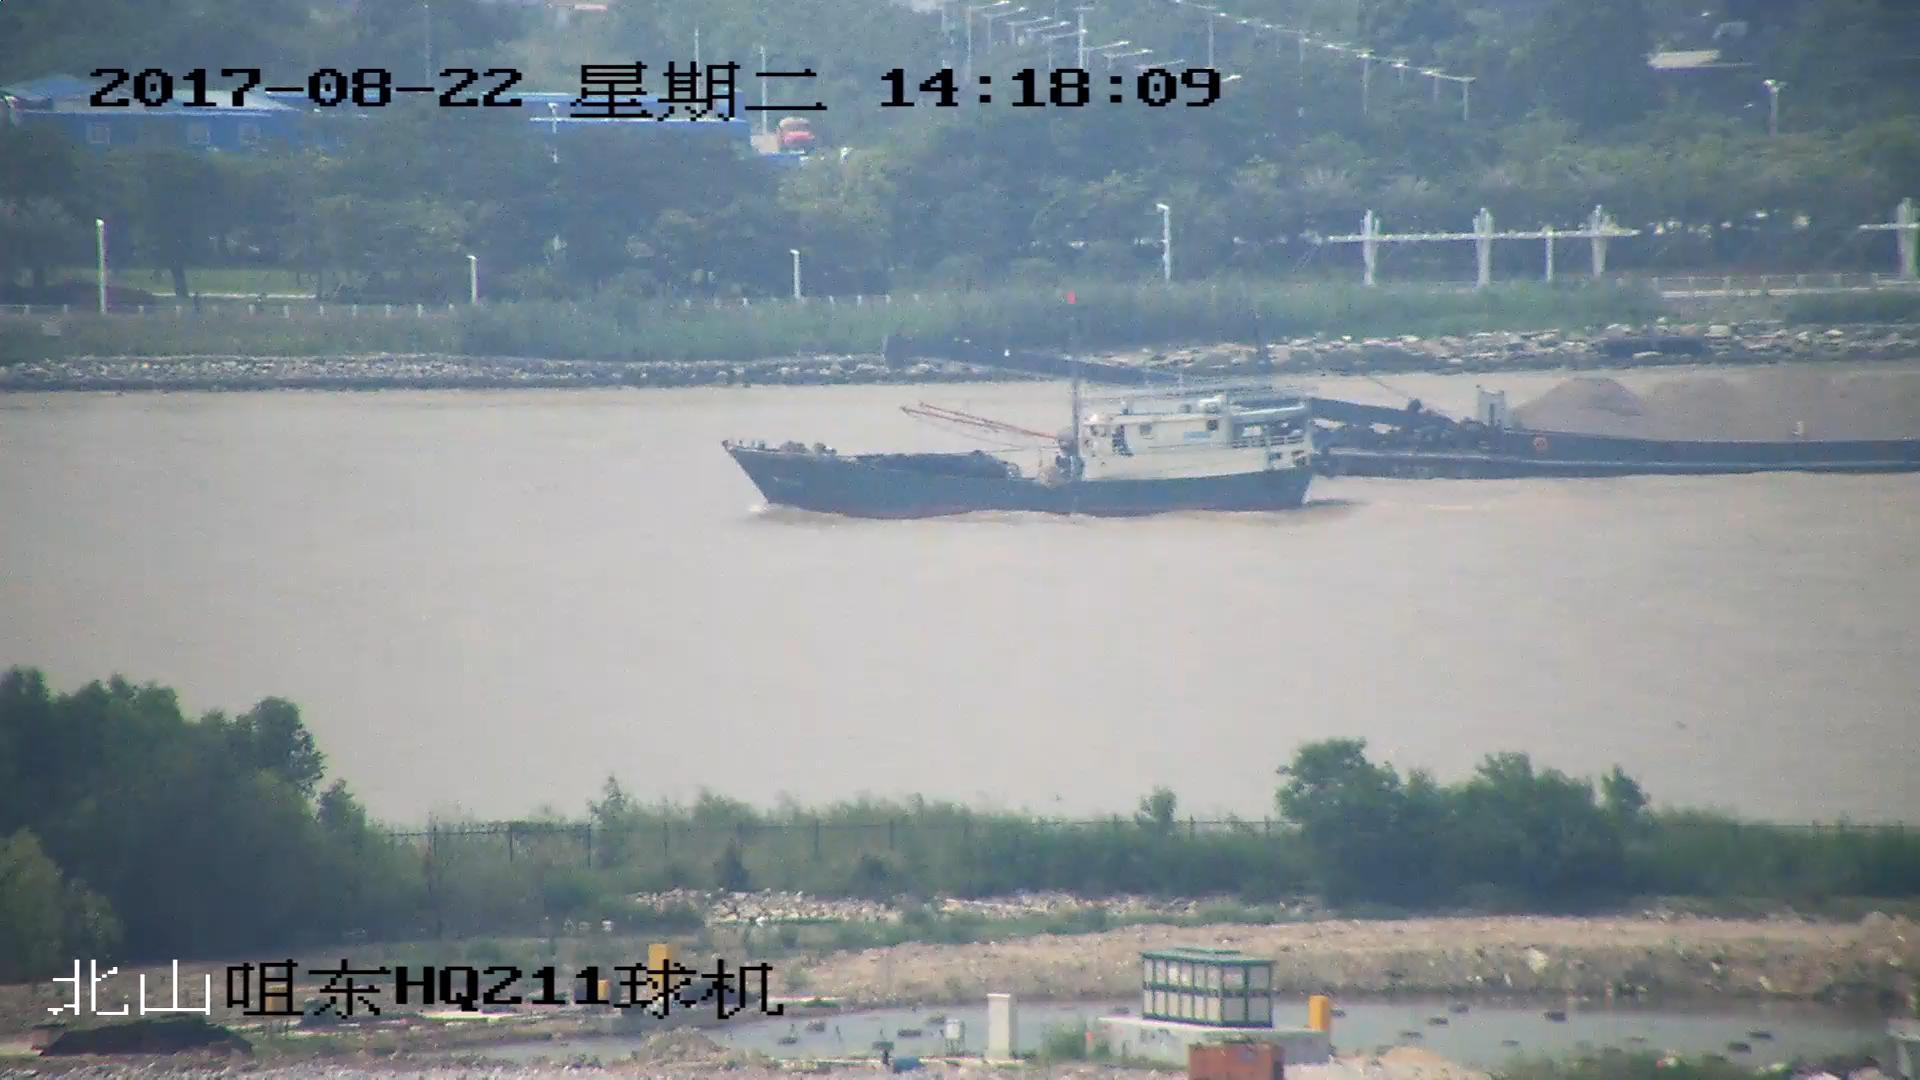Ship: (891, 334, 1920, 473), (724, 295, 1328, 520)
